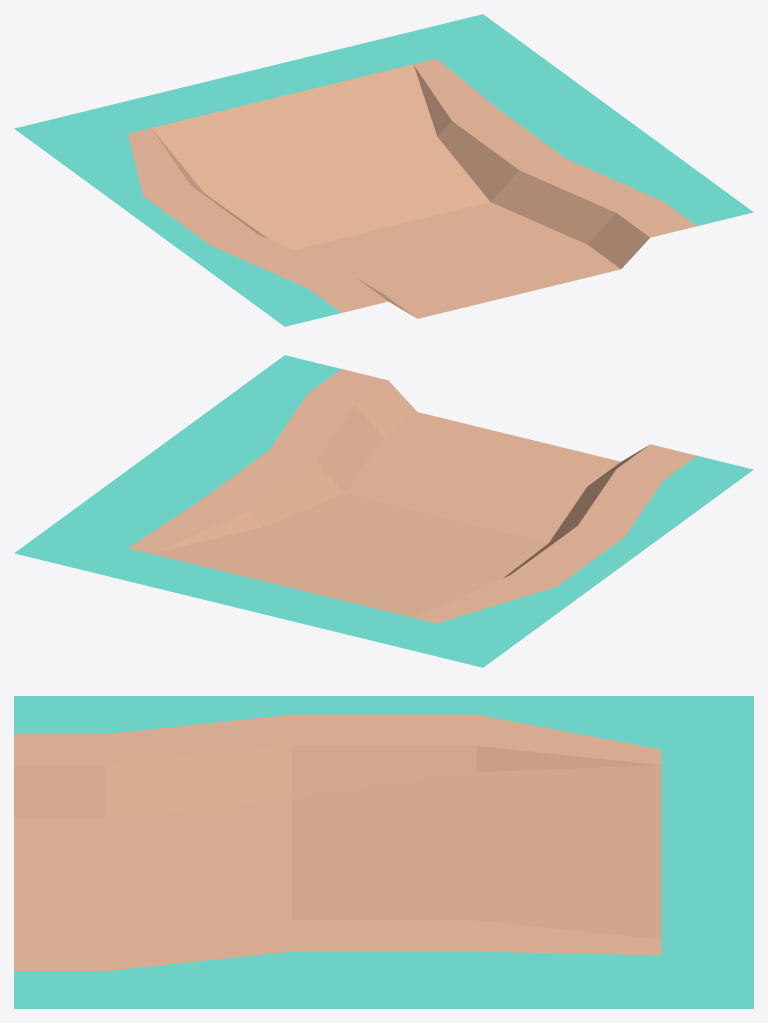
The model's file is ground_pathEnd.glb.
3 views of the same model, one above another, from view 1: azimuth 30°, elevation 25°; view 2: azimuth 150°, elevation 25°; view 3: azimuth 270°, elevation 25° (orthographic). The views are drawn at different scales.
Parts seen in each view (by area): view 1: ground_pathEnd; view 2: ground_pathEnd; view 3: ground_pathEnd.
Boxes of the visible parts, bbox=[...] form: ground_pathEnd: bbox=[14, 14, 753, 326]; ground_pathEnd: bbox=[14, 355, 753, 667]; ground_pathEnd: bbox=[14, 696, 753, 1008].
Size of the model in its own units: 1 by 0.05 by 1.
